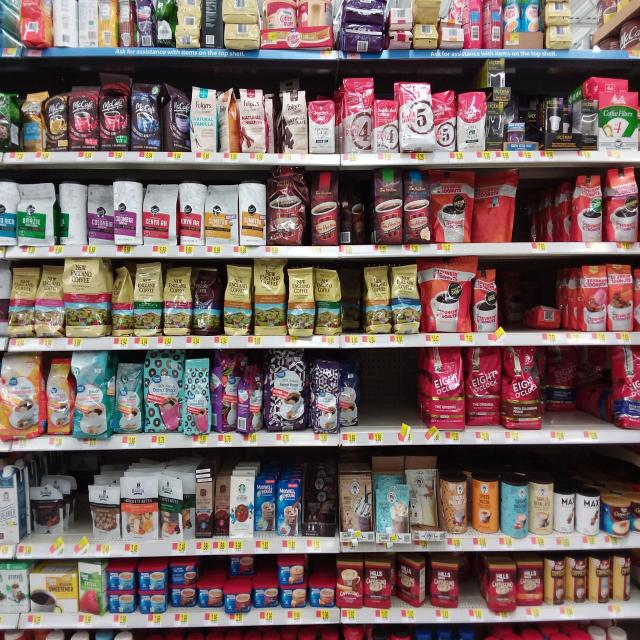void: (576, 347, 612, 449), (362, 348, 394, 444), (396, 352, 428, 444), (543, 165, 575, 257), (514, 168, 542, 255), (461, 552, 485, 624)
